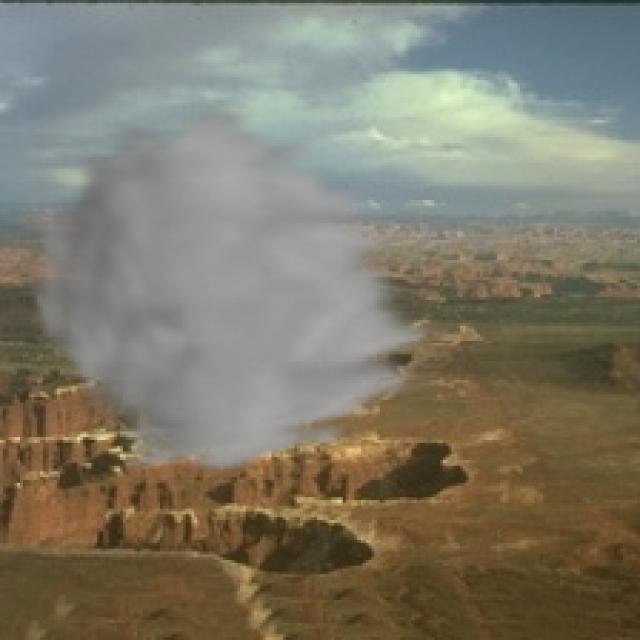smoke: (23, 100, 448, 477)
